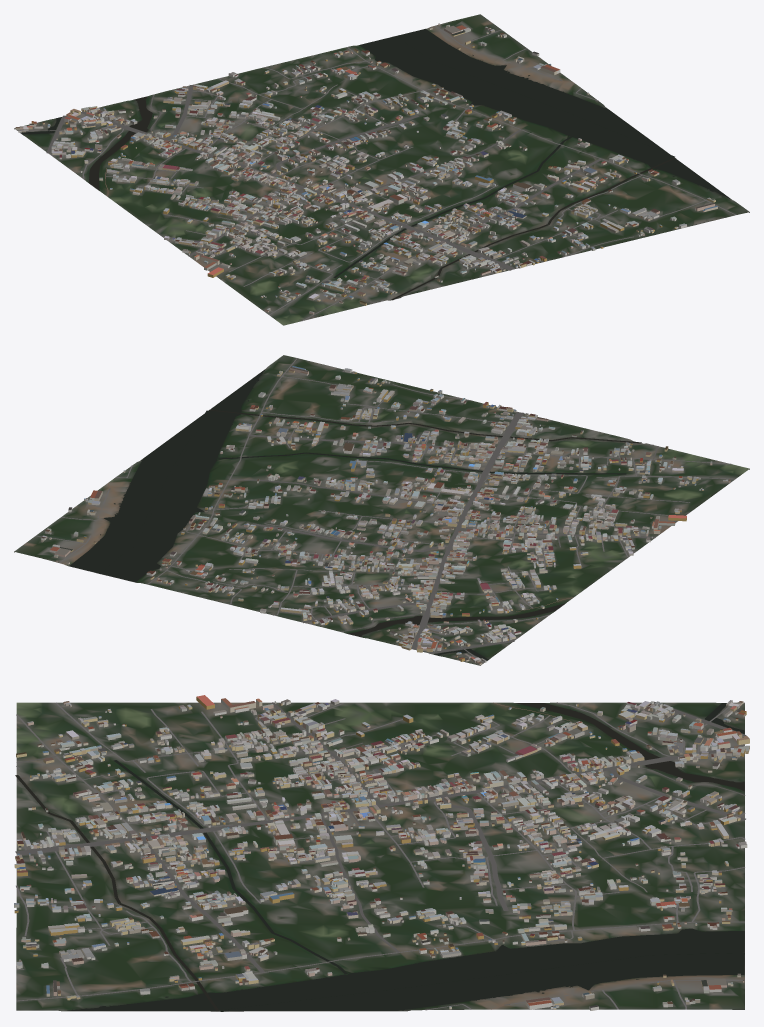
The picture shows the model from 3 angles, top to bottom: view 1: azimuth 30°, elevation 25°; view 2: azimuth 150°, elevation 25°; view 3: azimuth 270°, elevation 25°; orthographic projection. The views are drawn at different scales.
Visible parts, largest first — view 1: ground, buildings, water, roads; view 2: ground, buildings, water, roads; view 3: ground, buildings, water, roads.
Part boxes in pixels (x1,y1,x2,y2): ground: (14, 14, 749, 325); buildings: (15, 23, 717, 314); water: (21, 29, 730, 300); roads: (26, 25, 735, 321); ground: (14, 355, 749, 665); buildings: (41, 366, 730, 664); water: (69, 369, 641, 660); roads: (36, 358, 735, 662); ground: (16, 702, 744, 1011); buildings: (14, 695, 749, 1010); water: (15, 703, 744, 1011); roads: (15, 701, 746, 1010).
Size of the model in its own units: 1423 by 20.42 by 1415.
